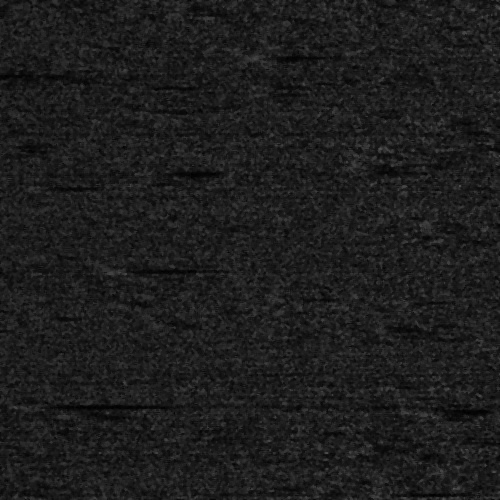rock: (420, 143, 483, 148), (225, 51, 266, 58), (2, 400, 55, 405), (382, 406, 435, 411), (78, 267, 131, 272), (360, 490, 413, 493)
shadow: (29, 400, 158, 405), (246, 51, 291, 58), (409, 406, 459, 411), (452, 143, 500, 148), (387, 490, 462, 493), (105, 267, 144, 272), (0, 70, 16, 77)
